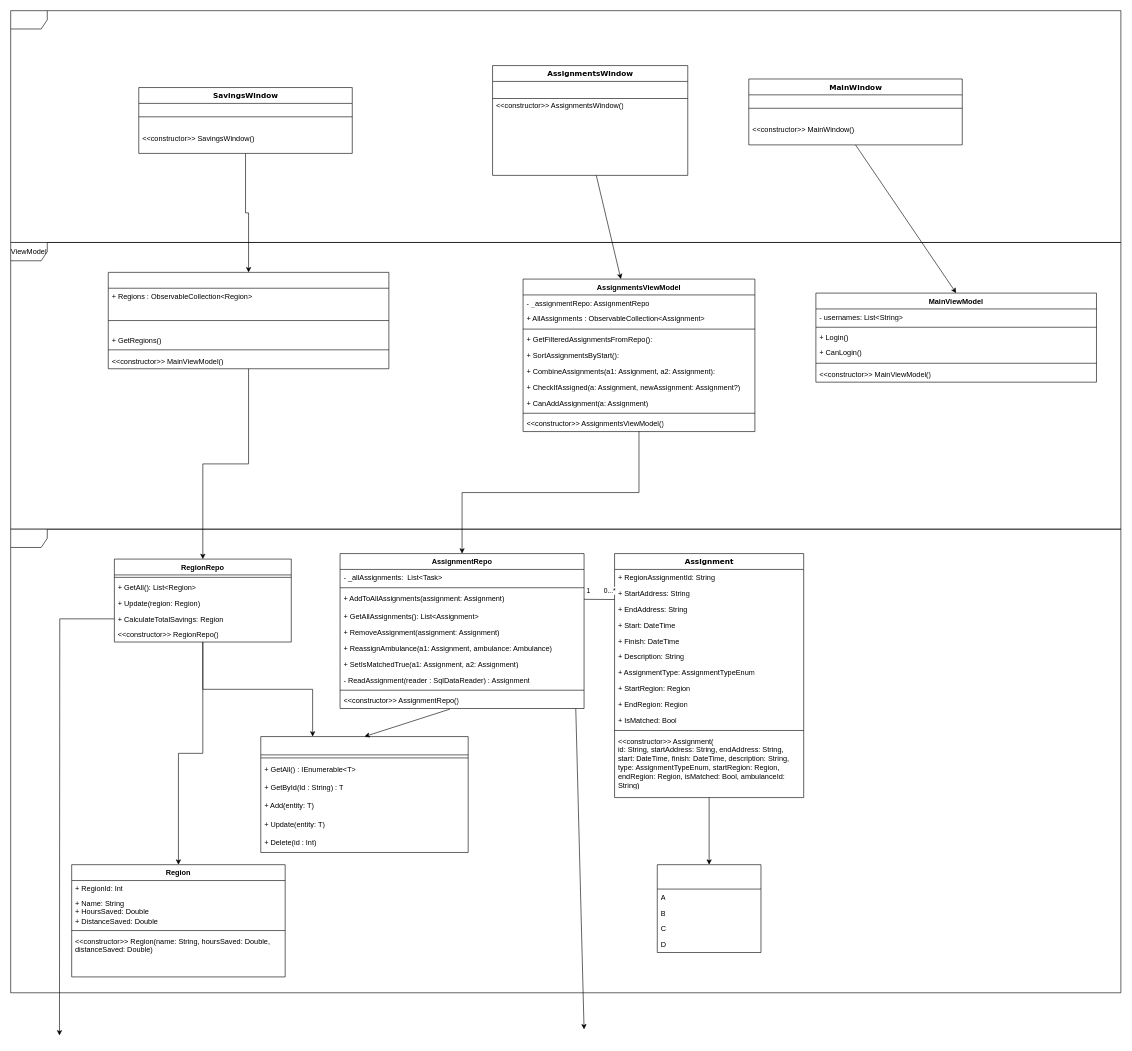
This 1132x1051 diagram has some shape labels left out. Here are the shapes that lost their labels. From the top down, the box of each, then its label:
(10, 10, 1121, 242): View
(108, 272, 389, 369): SavingsViewModel
(10, 529, 1121, 993): Model
(260, 736, 468, 852): IRepository
(657, 864, 761, 953): <<enum>> AssignmentTypeEnum
